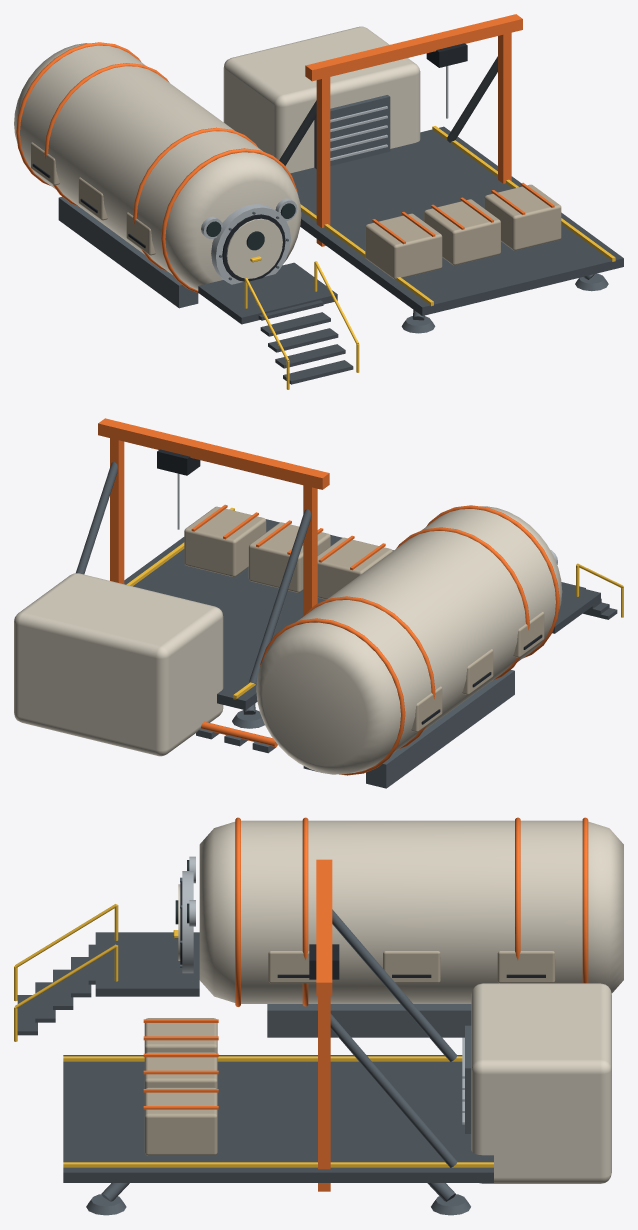
File: base-boss-forge.glb
3 renders of one model, top to bottom at view 1: azimuth 30°, elevation 25°; view 2: azimuth 150°, elevation 25°; view 3: azimuth 270°, elevation 25°, orthographic. The views are drawn at different scales.
Visible parts, largest first — view 1: base-boss-forge-warm-ceramic-insulation, base-boss-forge-floor-grate, base-boss-forge-safety-orange, base-boss-forge-oatmeal-thermal-blanket, base-boss-forge-dark-steel, base-boss-forge-aluminium, base-boss-forge-hazard-yellow, base-boss-forge-dark-polymer, base-boss-forge-shadowed-pressure-glass; view 2: base-boss-forge-warm-ceramic-insulation, base-boss-forge-safety-orange, base-boss-forge-oatmeal-thermal-blanket, base-boss-forge-floor-grate, base-boss-forge-dark-steel, base-boss-forge-dark-polymer, base-boss-forge-hazard-yellow; view 3: base-boss-forge-warm-ceramic-insulation, base-boss-forge-floor-grate, base-boss-forge-oatmeal-thermal-blanket, base-boss-forge-dark-steel, base-boss-forge-safety-orange, base-boss-forge-hazard-yellow, base-boss-forge-aluminium, base-boss-forge-dark-polymer.
Part boxes in pixels (<box>): base-boss-forge-warm-ceramic-insulation: <box>14,26,420,290</box>; base-boss-forge-floor-grate: <box>198,126,623,384</box>; base-boss-forge-safety-orange: <box>16,14,554,293</box>; base-boss-forge-oatmeal-thermal-blanket: <box>31,142,561,279</box>; base-boss-forge-dark-steel: <box>58,56,608,333</box>; base-boss-forge-aluminium: <box>201,66,448,284</box>; base-boss-forge-hazard-yellow: <box>244,126,615,389</box>; base-boss-forge-dark-polymer: <box>32,43,467,281</box>; base-boss-forge-shadowed-pressure-glass: <box>206,203,295,250</box>; base-boss-forge-warm-ceramic-insulation: <box>14,506,562,774</box>; base-boss-forge-safety-orange: <box>98,418,559,775</box>; base-boss-forge-oatmeal-thermal-blanket: <box>184,506,544,732</box>; base-boss-forge-floor-grate: <box>124,519,617,710</box>; base-boss-forge-dark-steel: <box>76,461,514,788</box>; base-boss-forge-dark-polymer: <box>157,449,542,724</box>; base-boss-forge-hazard-yellow: <box>126,507,623,699</box>; base-boss-forge-warm-ceramic-insulation: <box>178,820,623,1183</box>; base-boss-forge-floor-grate: <box>17,932,493,1182</box>; base-boss-forge-oatmeal-thermal-blanket: <box>144,951,555,1155</box>; base-boss-forge-dark-steel: <box>86,877,471,1215</box>; base-boss-forge-safety-orange: <box>143,817,588,1191</box>; base-boss-forge-hazard-yellow: <box>14,904,493,1167</box>; base-boss-forge-aluminium: <box>182,856,464,1124</box>; base-boss-forge-dark-polymer: <box>180,882,545,979</box>.
Bounding box in the file's own units: 8.6 × 4.09 × 9.63.
